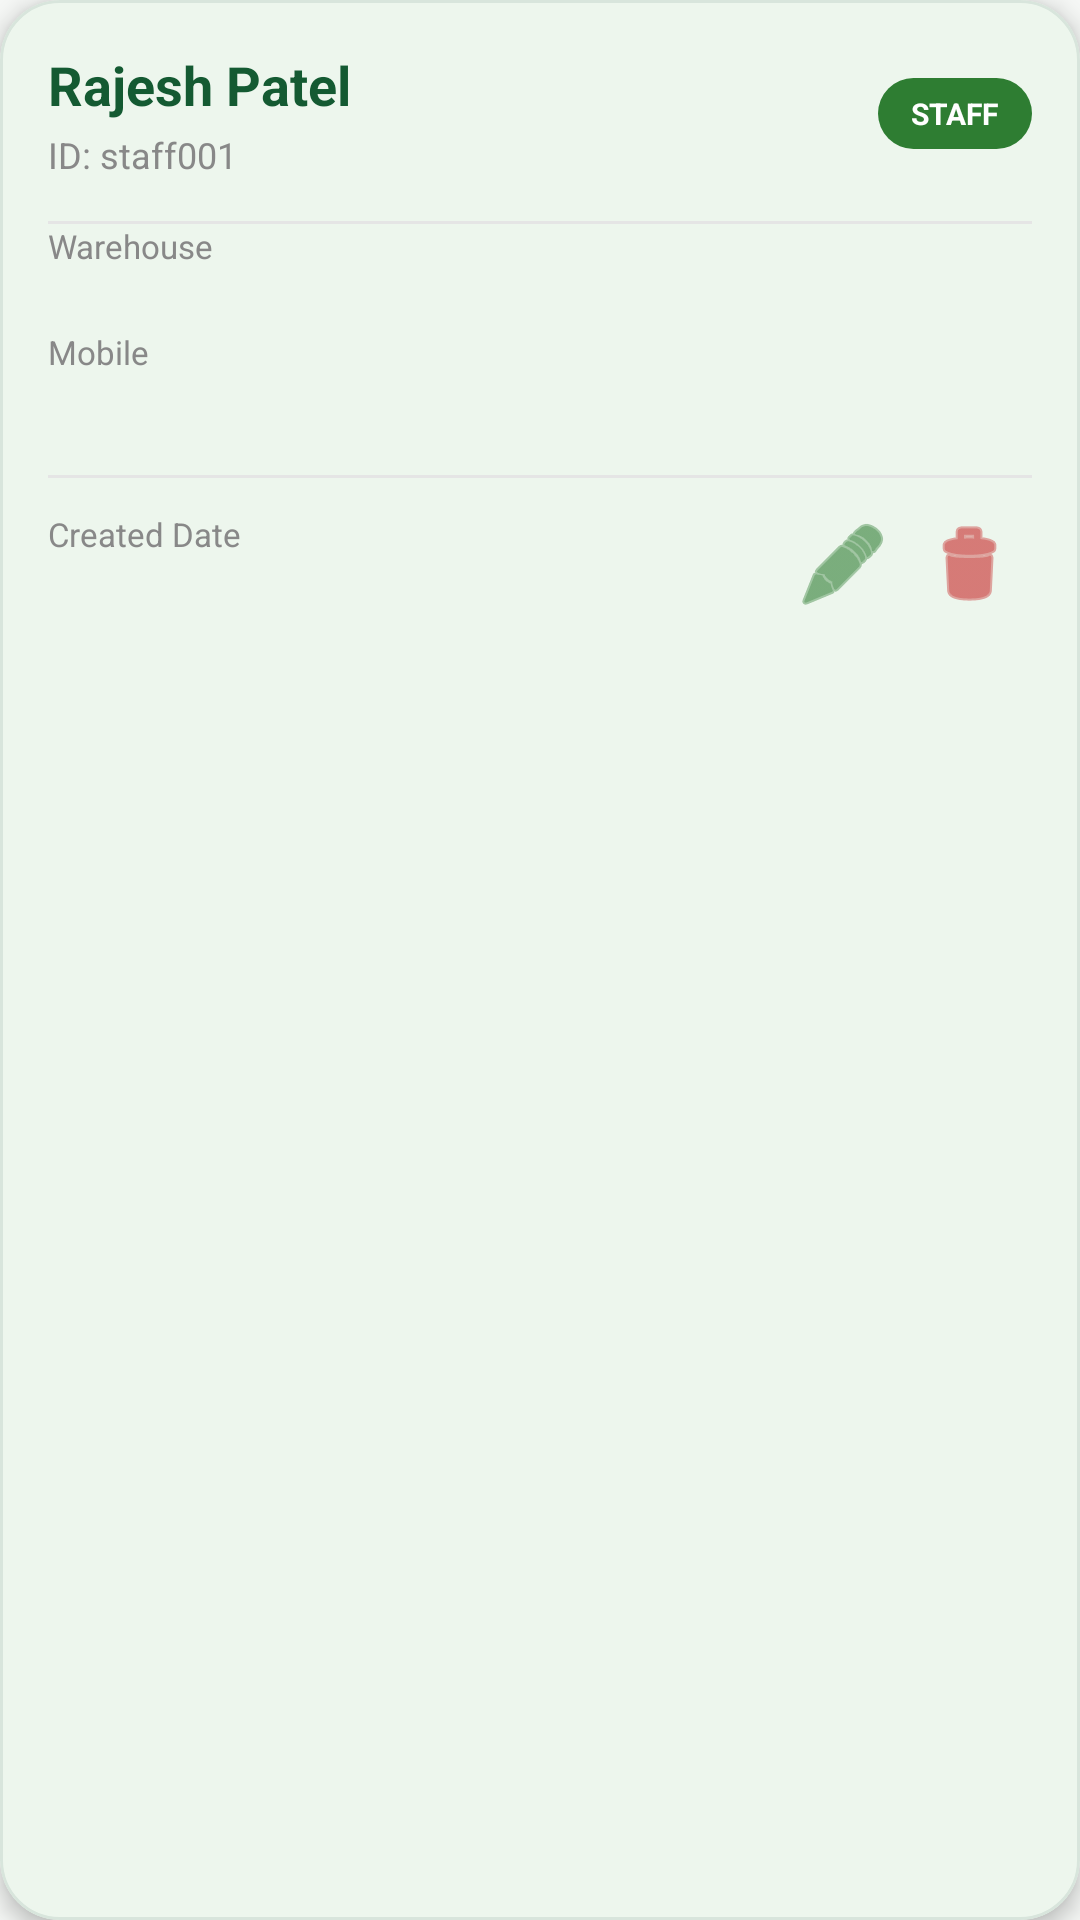

Icons on this 1080px×1920px Android screen, each with the point to tap as (x,y):
Delete Staff: (969,563)
Edit Staff: (842,564)
